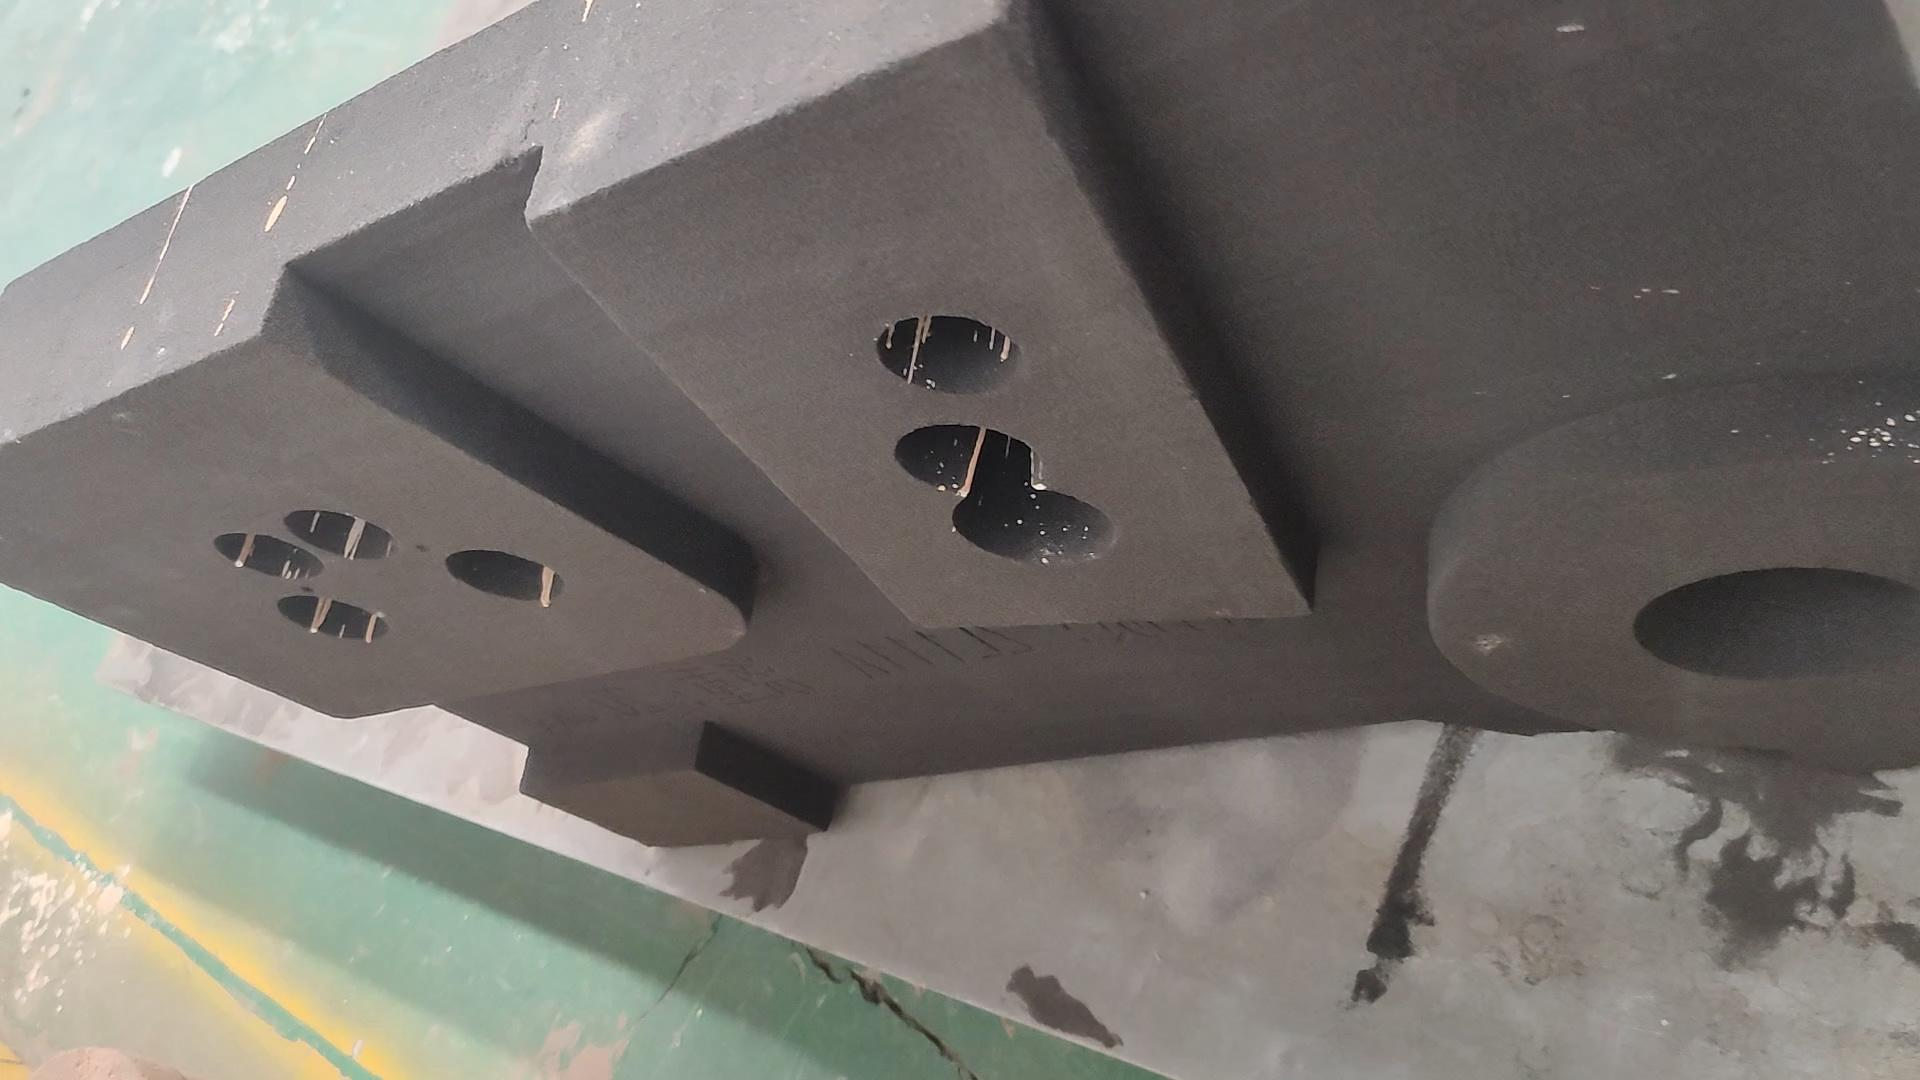pouring hole: (1633, 567, 1920, 680)
